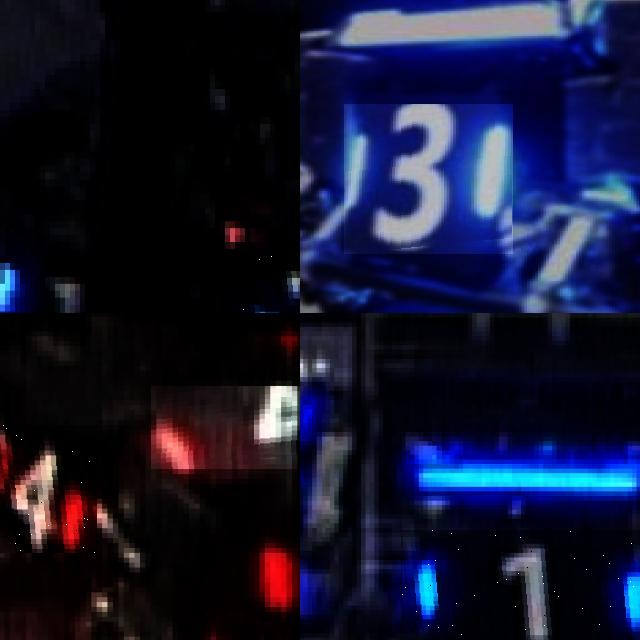B1: (401, 530, 640, 640), (240, 255, 300, 313)
B3: (344, 104, 513, 254)
R4: (150, 385, 300, 469), (0, 425, 96, 553)
